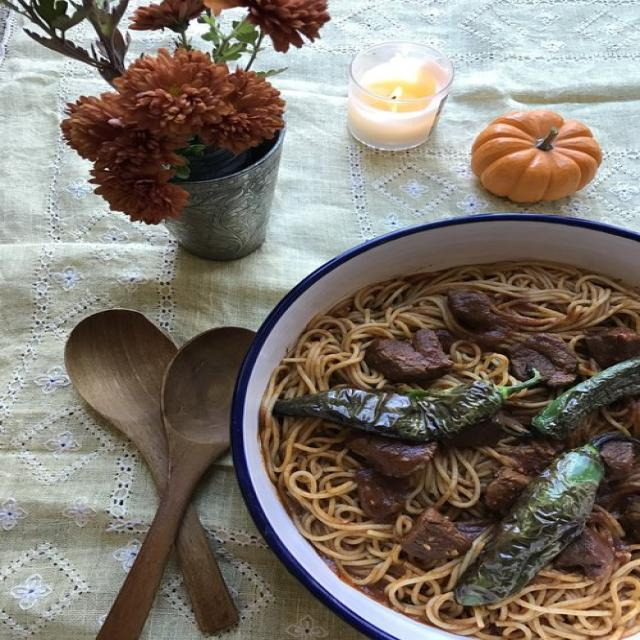Pasta: (260, 261, 640, 640)
